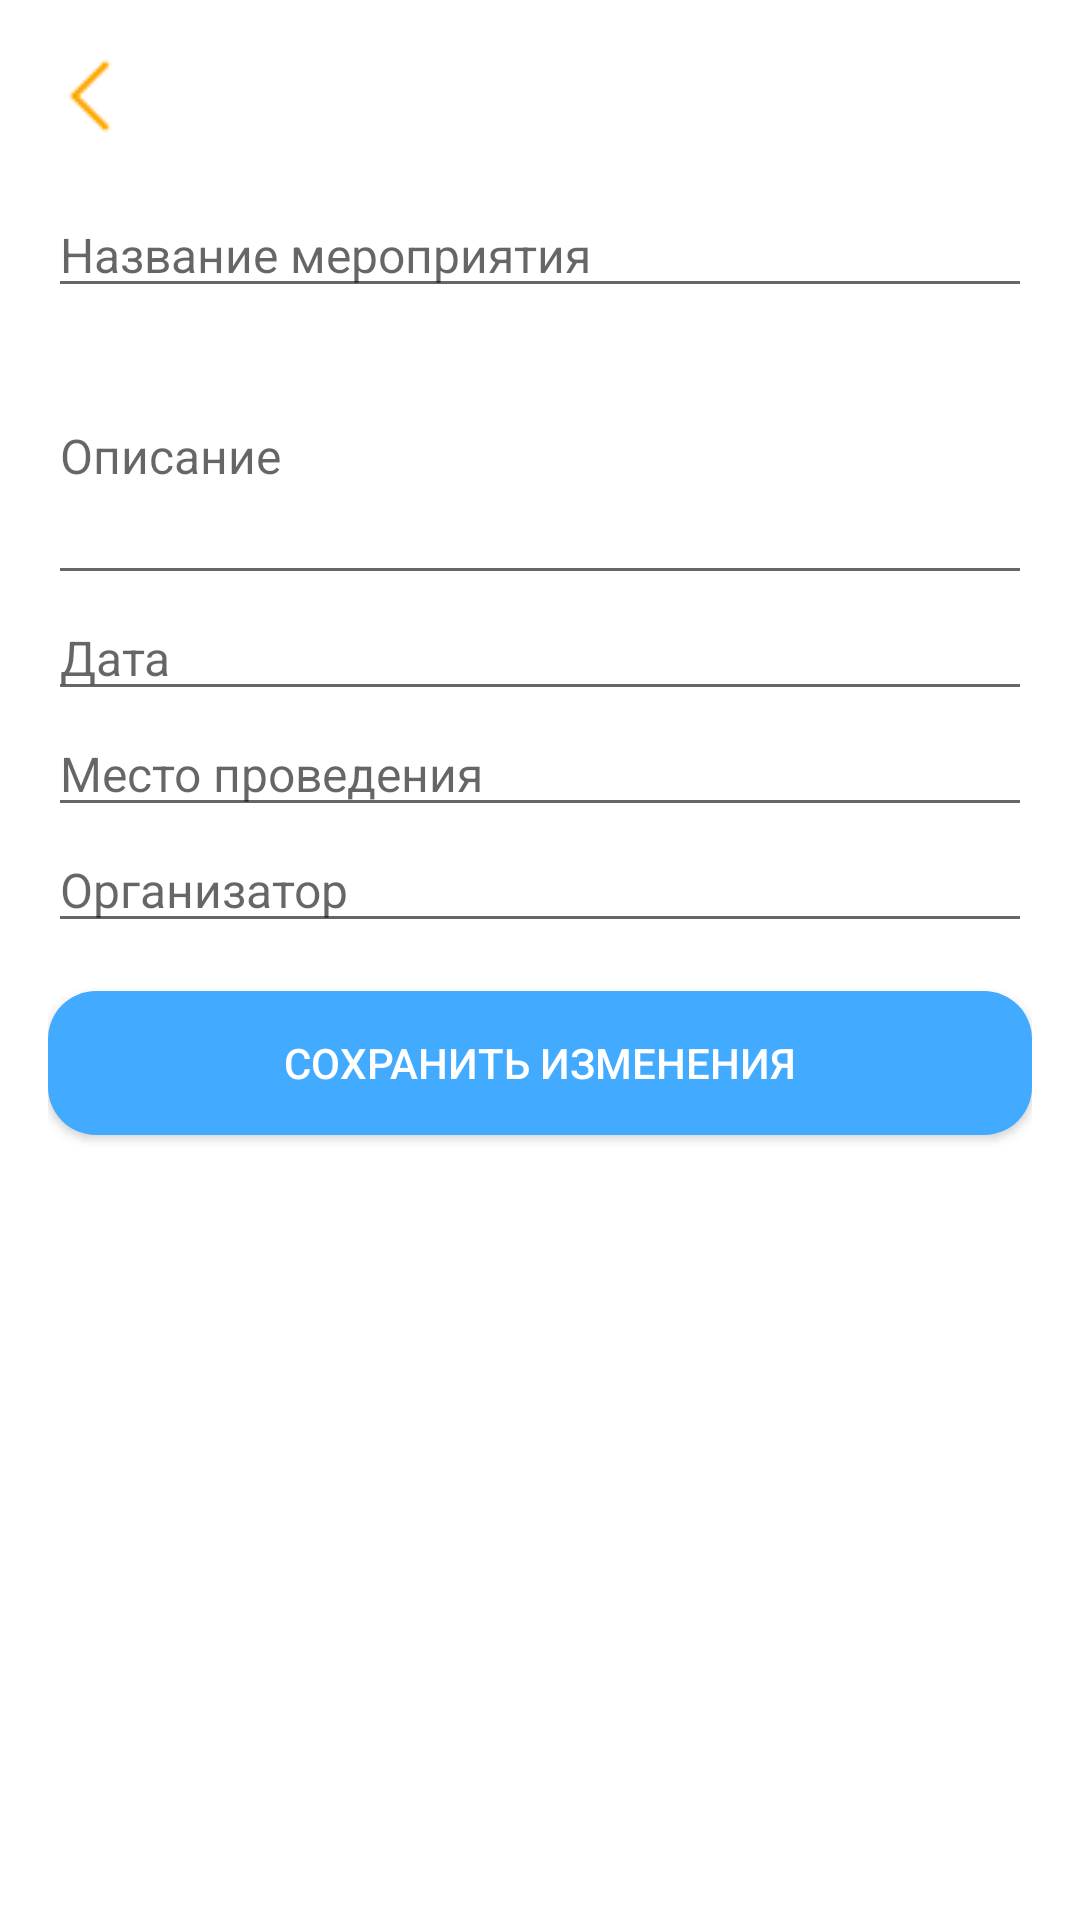

Where to tap for icons on this 1080px x 1920px app screen, as (x=x, y=y):
Назад: (x=90, y=96)
